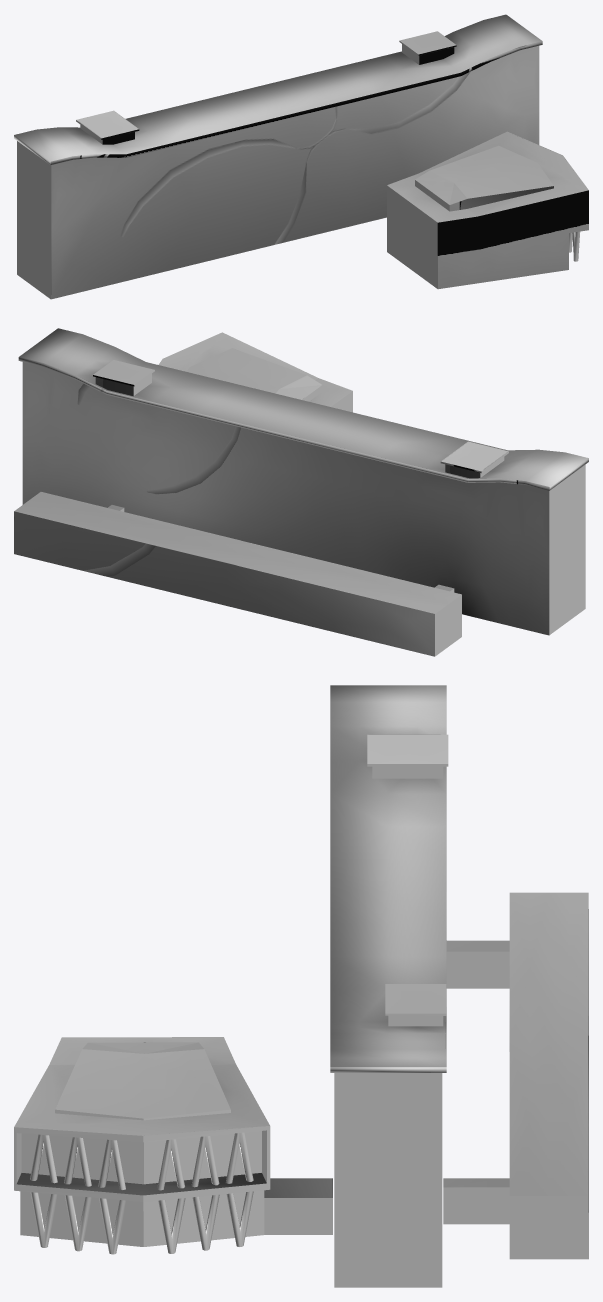
File: hausGausDustIn.dae
3 views of the same model, one above another, from view 1: azimuth 30°, elevation 25°; view 2: azimuth 150°, elevation 25°; view 3: azimuth 270°, elevation 25° (orthographic). The views are drawn at different scales.
Parts seen in each view (by area): view 1: Rectangle02-node; view 2: Rectangle02-node; view 3: Rectangle02-node.
Part boxes in pixels (x1,y1,x2,y2): Rectangle02-node: [14, 14, 588, 299]; Rectangle02-node: [14, 328, 588, 656]; Rectangle02-node: [14, 685, 588, 1287].
Size of the model in its own units: 21.52 by 13.66 by 5.86.
2 materials, 2 textured.
